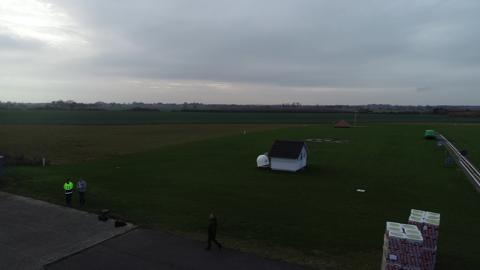RockwoolPallet: (405, 201, 441, 270)
